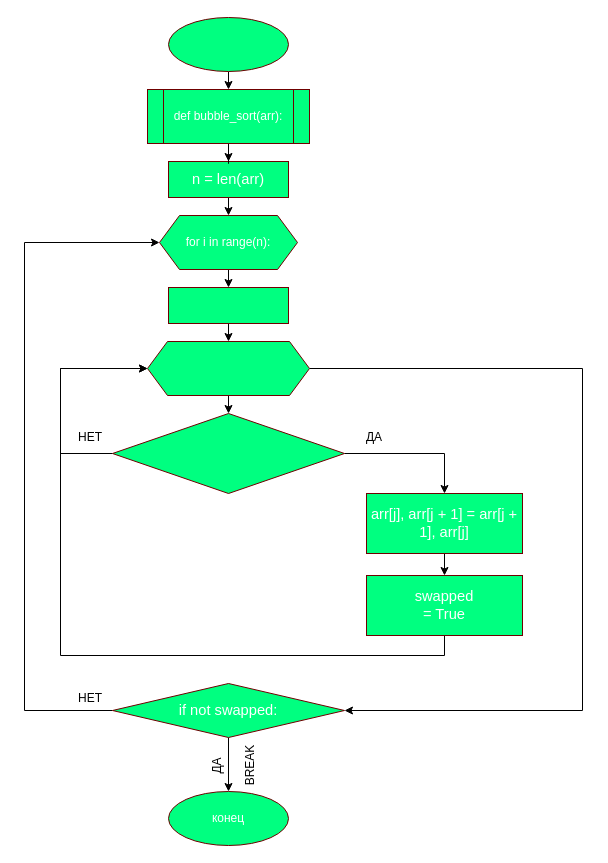
Image size: 608x863. Some labels were removed from this diagram. The centre of each missing label's shape, as x and y in pixels:
for j in range(0, n - i - 1):: pixel 228 368
if arr[j] > arr[j + 1]:: pixel 228 453
swapped = False: pixel 228 305
начало: pixel 228 44
